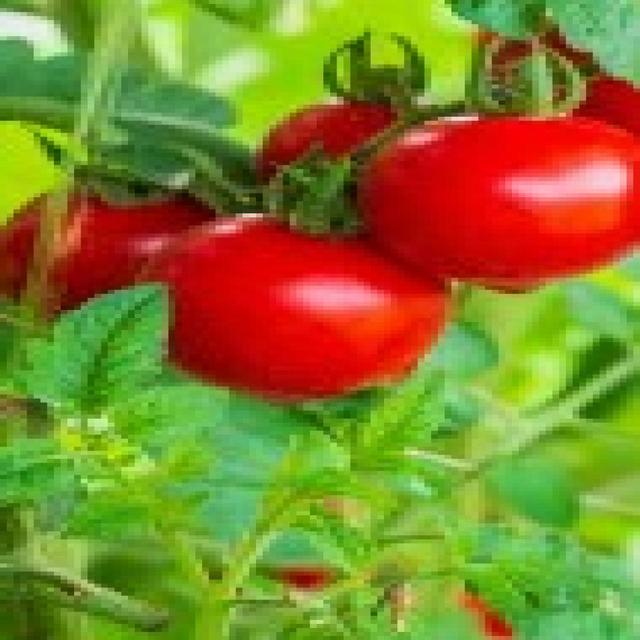Healthy Fruit: (75, 89, 339, 201)
